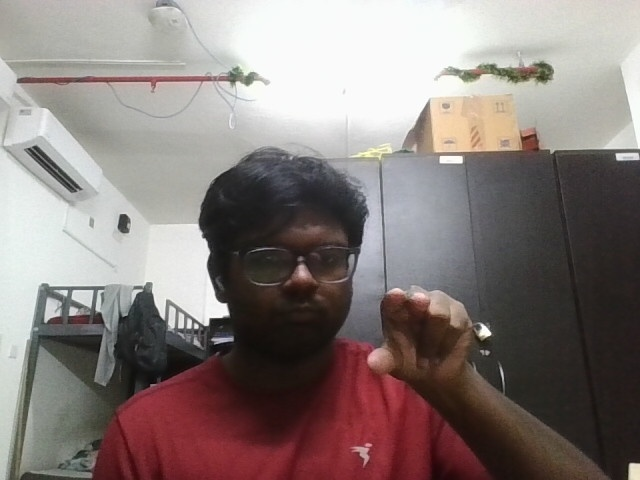No: (349, 271, 514, 414)
